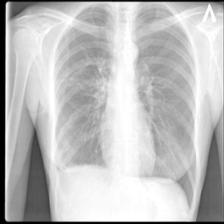tuberculosis: (48, 3, 201, 217)
